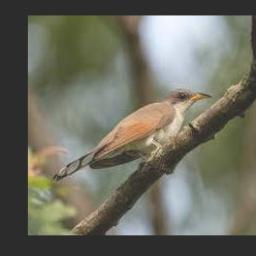Cuckoo: (54, 88, 213, 181)
